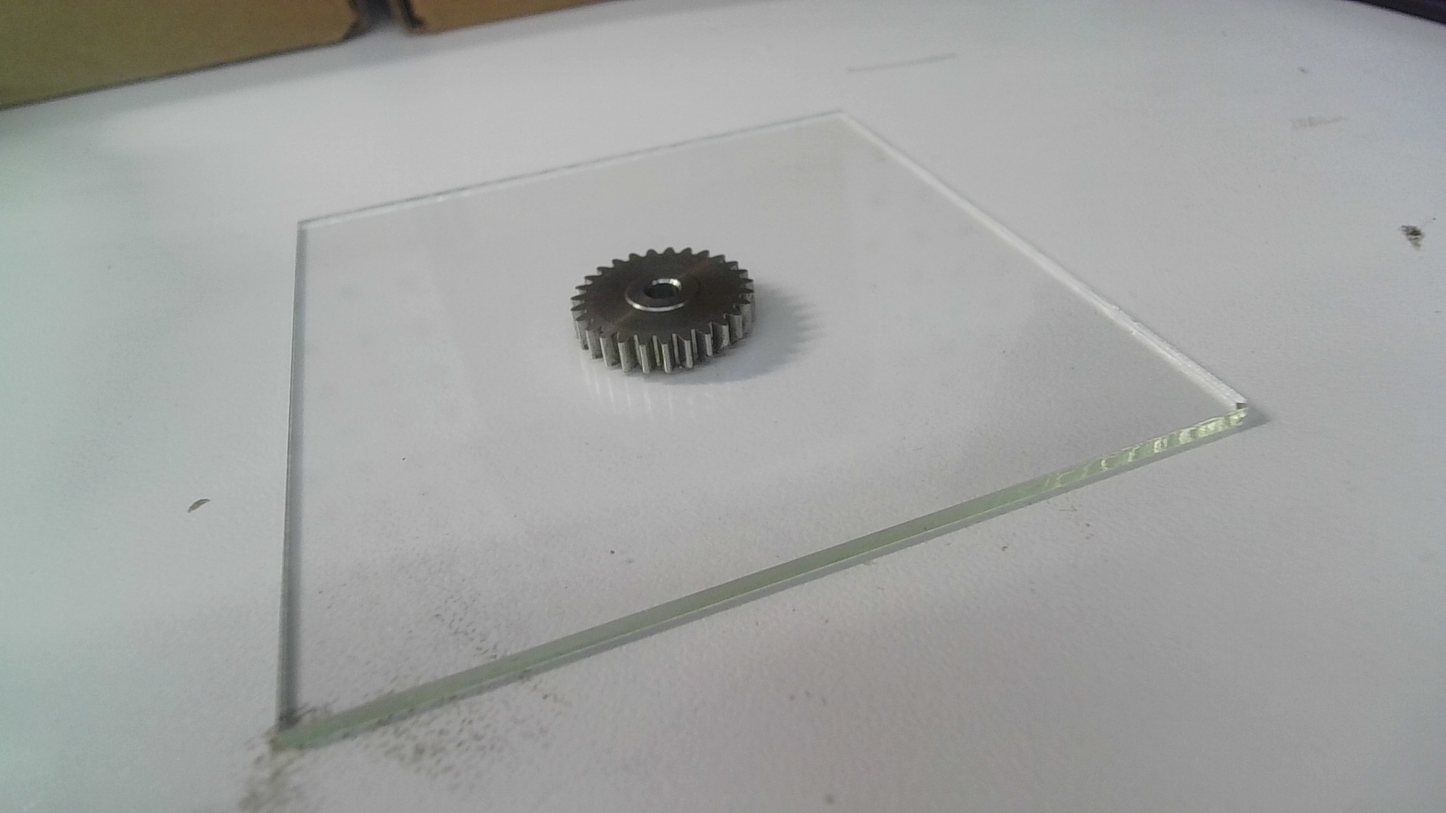gear: (570, 244, 758, 375)
